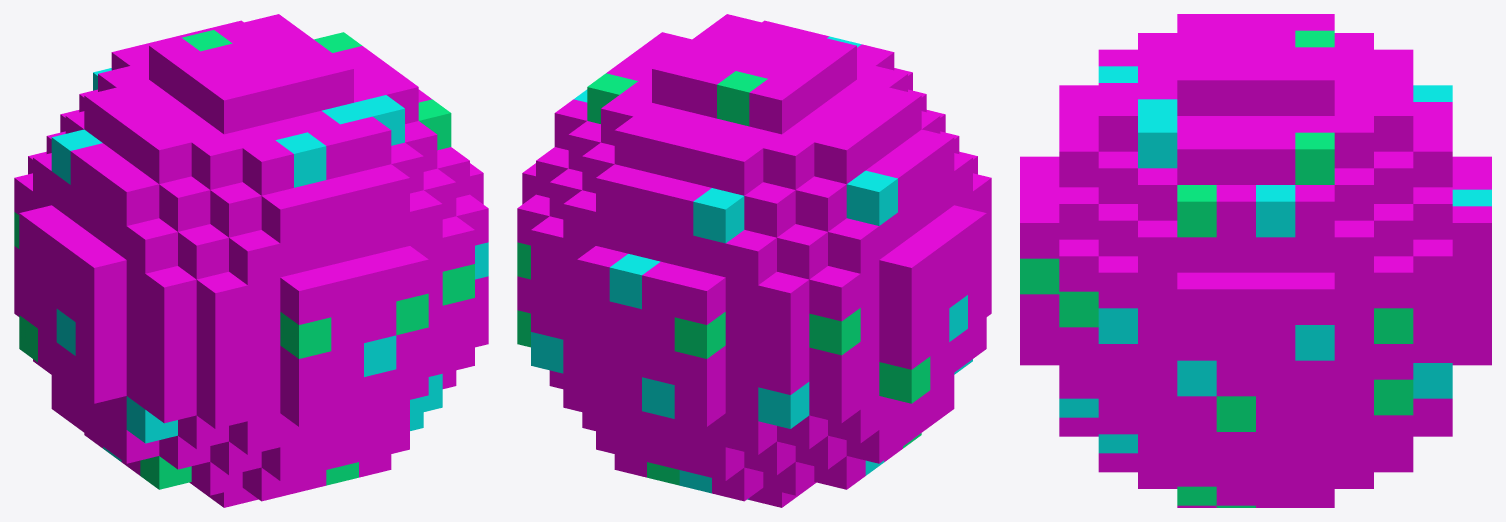
The model's file is planetas-12-rosaccolorido.obj.
3 renders of one model, left to right at view 1: azimuth 30°, elevation 25°; view 2: azimuth 150°, elevation 25°; view 3: azimuth 270°, elevation 25°, orthographic. The views are drawn at different scales.
Bounding box in the file's own units: 1.2 × 1.2 × 1.2.
1 material, 1 textured.
